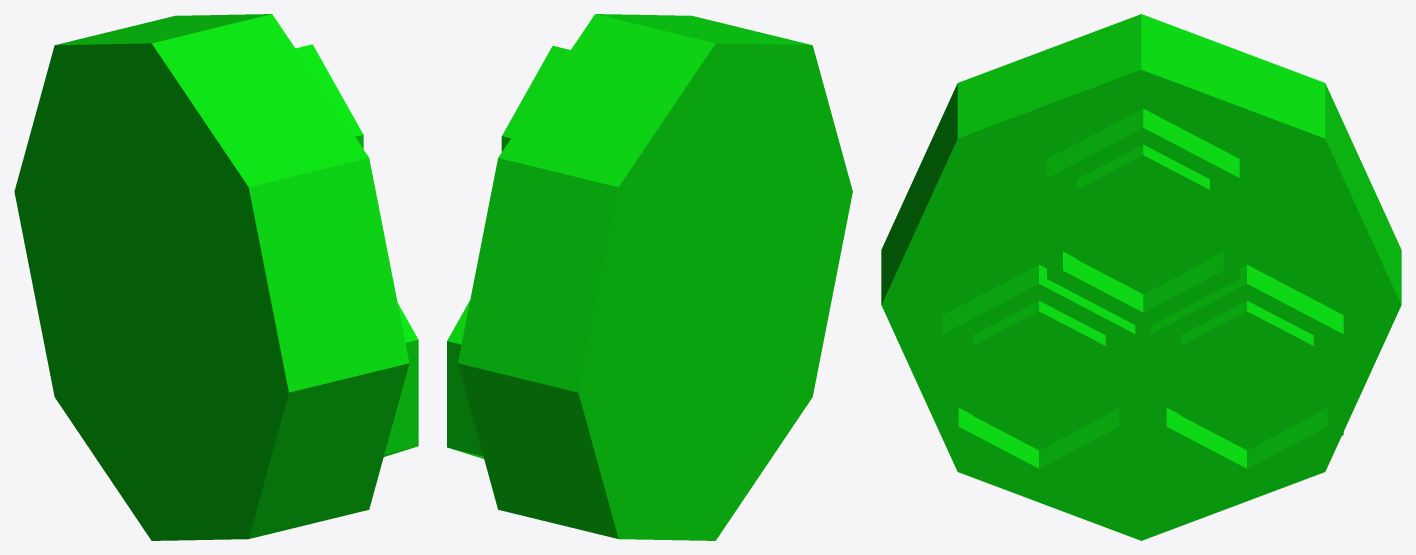
File: outlet_r_2.glb
The picture shows the model from 3 angles, left to right: view 1: azimuth 30°, elevation 25°; view 2: azimuth 150°, elevation 25°; view 3: azimuth 270°, elevation 25°; orthographic projection. The views are drawn at different scales.
Visible parts, largest first — view 1: Cylinder.017; view 2: Cylinder.017; view 3: Cylinder.017.
Part boxes in pixels (<box>): Cylinder.017: <box>14,14,418,540</box>; Cylinder.017: <box>447,14,852,540</box>; Cylinder.017: <box>881,14,1401,540</box>.
Bounding box in the file's own units: 0.1118 × 0.328 × 0.328.
